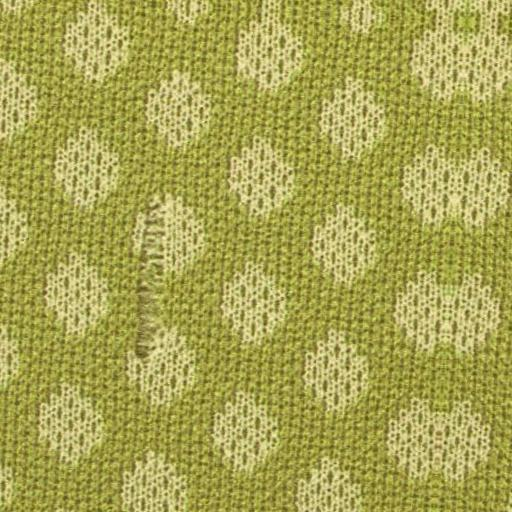slub: (130, 205, 176, 360)
